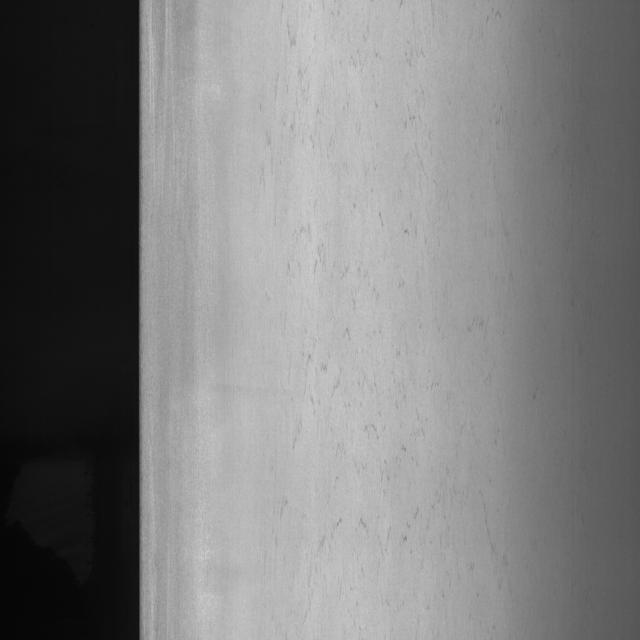inclusion: (269, 10, 513, 622)
